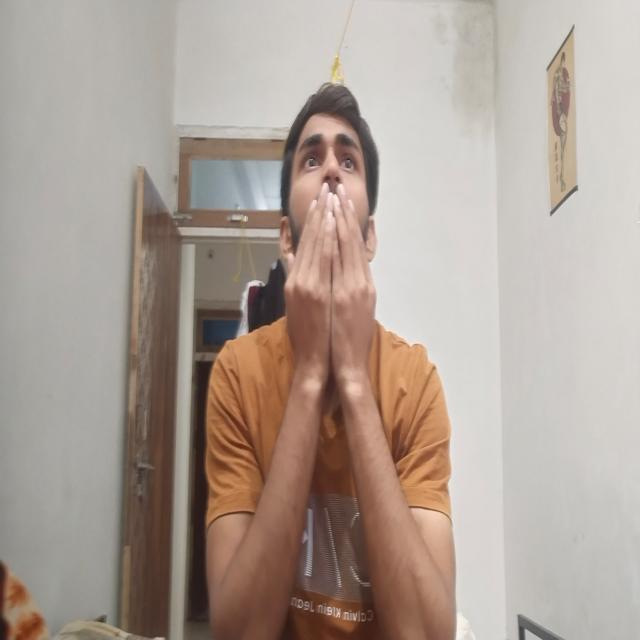Thanks: (261, 176, 414, 408)
